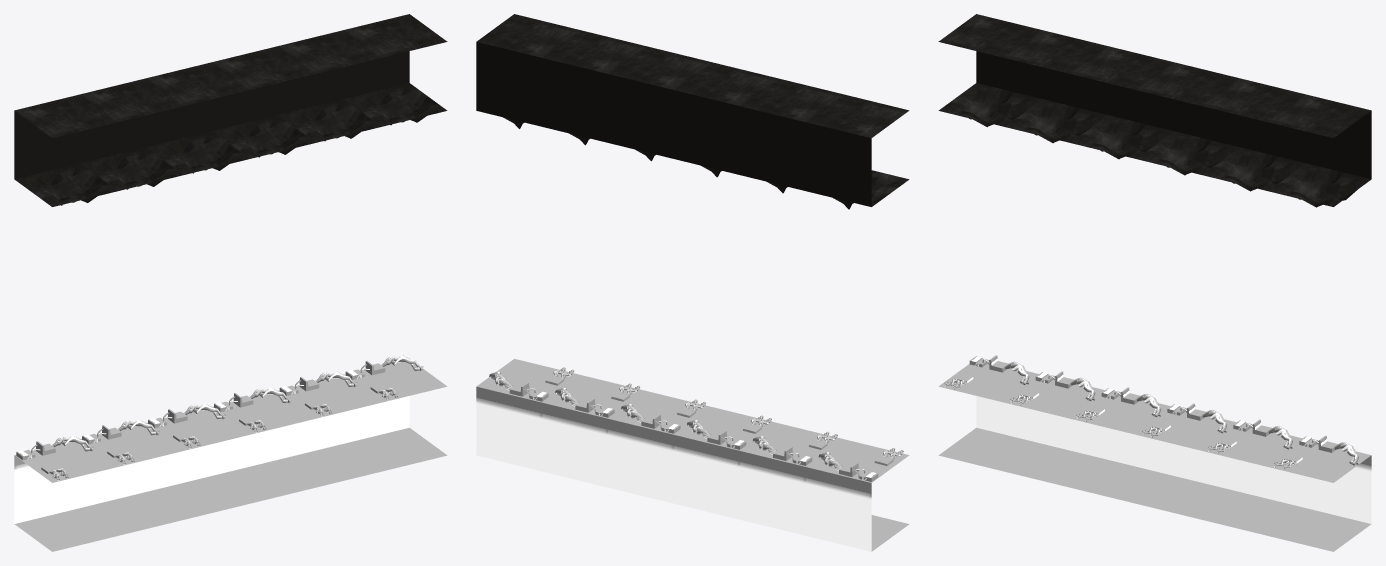
File: Cubi_Corridor10to11.fbx
3 renders of one model, left to right at view 1: azimuth 30°, elevation 25°; view 2: azimuth 150°, elevation 25°; view 3: azimuth 330°, elevation 25°, orthographic.
Visible parts, largest first — view 1: Cubes_Corridor10to11; view 2: Cubes_Corridor10to11; view 3: Cubes_Corridor10to11.
Part boxes in pixels (box(x1,y1,x2,y2)): Cubes_Corridor10to11: box(14, 14, 447, 551); Cubes_Corridor10to11: box(476, 14, 909, 551); Cubes_Corridor10to11: box(938, 14, 1371, 551).
Bounding box in the file's own units: 600 × 600 × 100.
